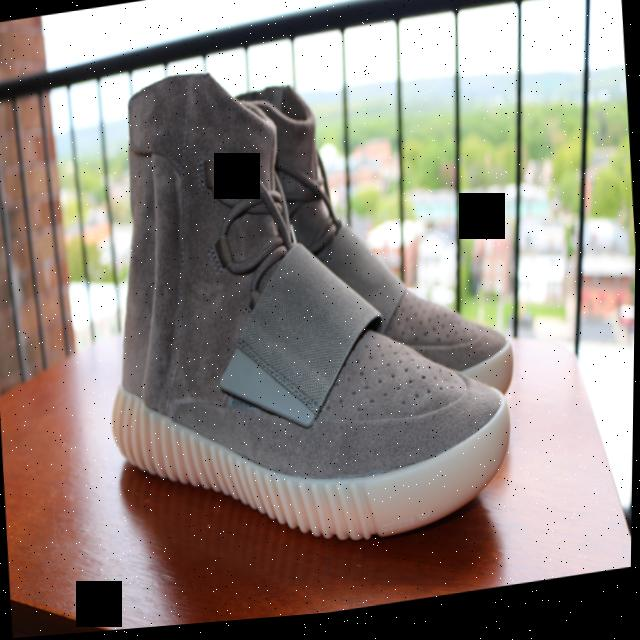shoes: (89, 28, 522, 595)
